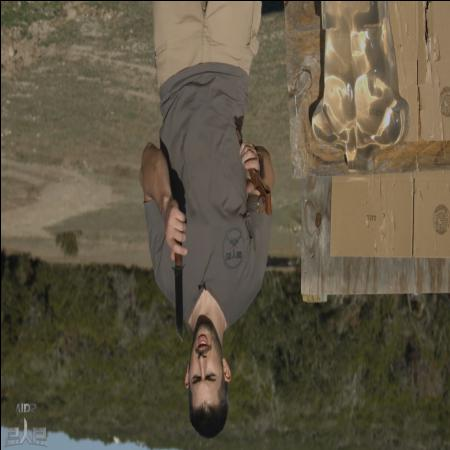long weapon: (161, 208, 188, 346)
